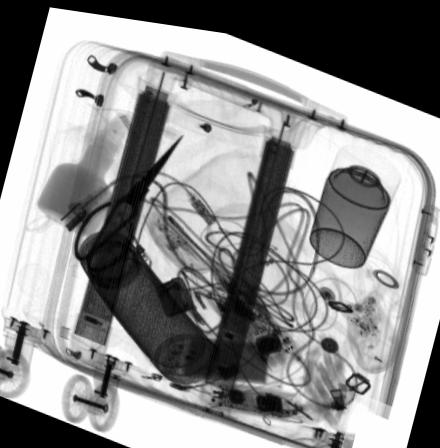Lighter: (156, 269, 196, 312)
Powerbank: (166, 322, 287, 379)
Scissors: (70, 124, 189, 267)
Sprayer: (309, 130, 401, 256)
